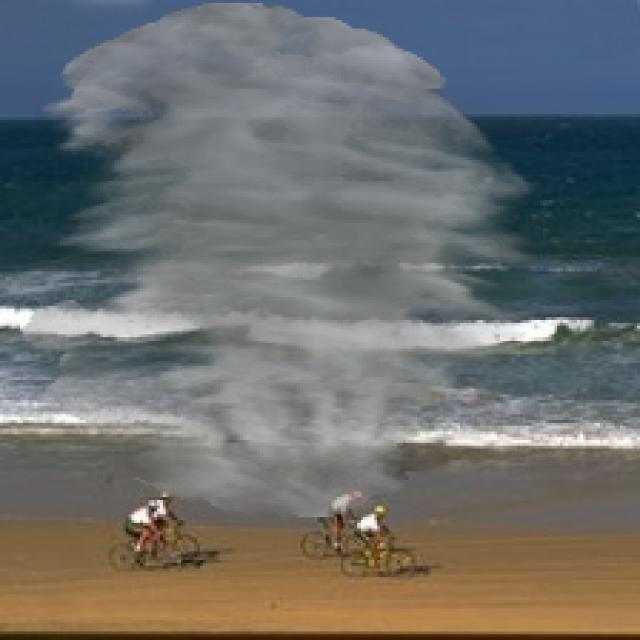Smoke: (20, 3, 540, 520)
